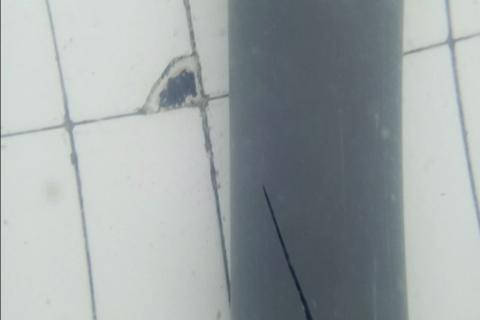keretakan: (261, 183, 311, 320)
